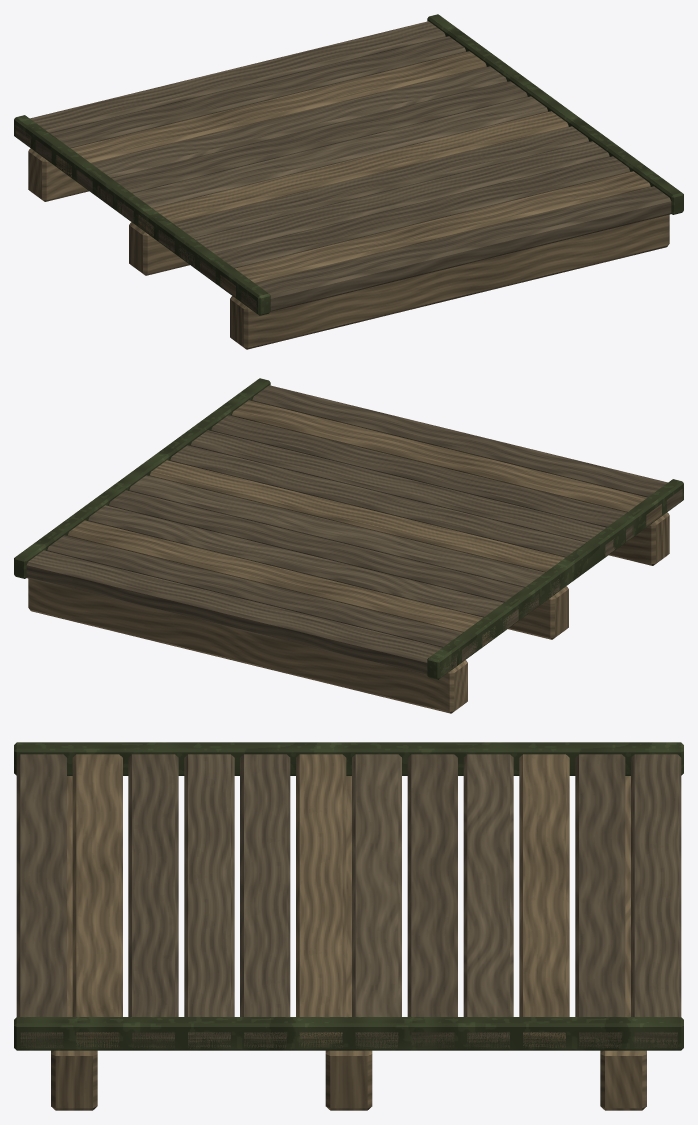
The picture shows the model from 3 angles, top to bottom: view 1: azimuth 30°, elevation 25°; view 2: azimuth 150°, elevation 25°; view 3: azimuth 270°, elevation 25°; orthographic projection. The views are drawn at different scales.
Visible parts, largest first — view 1: quarter-sawn-timber, exposed-end-grain, olive-painted-field-steel; view 2: quarter-sawn-timber, exposed-end-grain, olive-painted-field-steel; view 3: quarter-sawn-timber, exposed-end-grain, olive-painted-field-steel.
Part boxes in pixels (x1,y1,x2,y2): quarter-sawn-timber: [15, 21, 671, 312]; exposed-end-grain: [28, 51, 669, 349]; olive-painted-field-steel: [14, 14, 683, 315]; quarter-sawn-timber: [26, 385, 682, 676]; exposed-end-grain: [28, 400, 669, 713]; olive-painted-field-steel: [14, 378, 683, 679]; quarter-sawn-timber: [16, 754, 681, 1048]; exposed-end-grain: [51, 754, 646, 1110]; olive-painted-field-steel: [14, 742, 683, 1050].
Bounding box in the file's own units: 2 × 0.29 × 2.
Materials: 3 (3 with a texture image).
